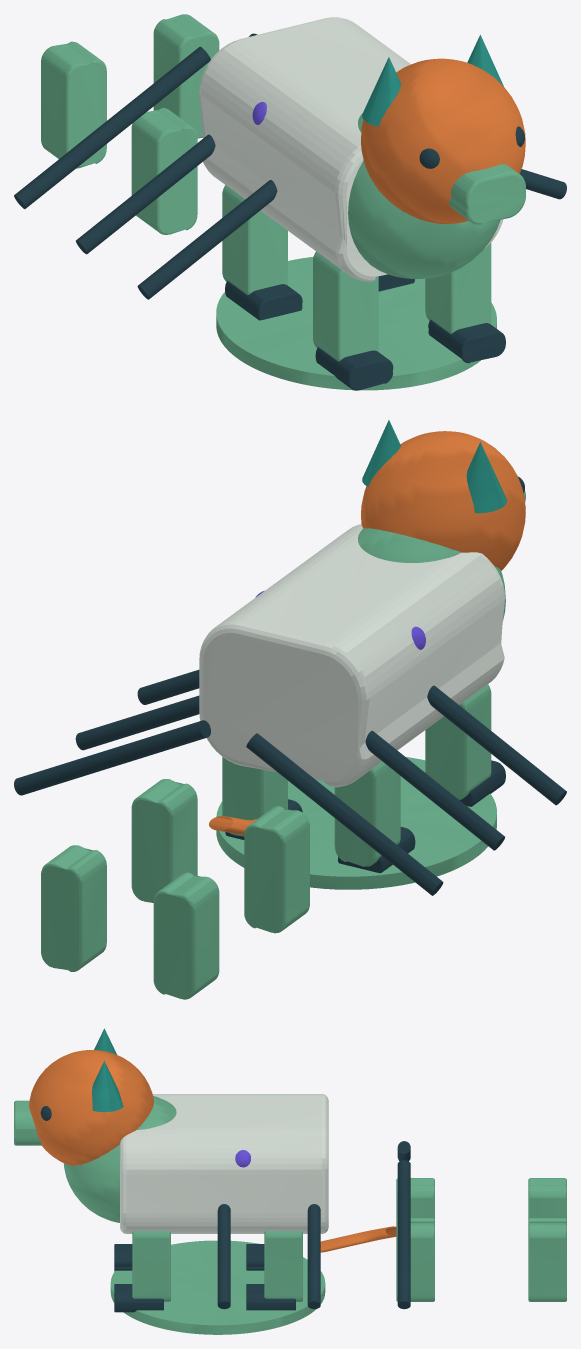
Rendered from 0880_森林动物图鉴_棕头蜘蛛猴.glb.
The picture shows the model from 3 angles, top to bottom: view 1: azimuth 30°, elevation 25°; view 2: azimuth 150°, elevation 25°; view 3: azimuth 270°, elevation 25°; orthographic projection. The views are drawn at different scales.
Parts seen in each view (by area): view 1: card_0880; view 2: card_0880; view 3: card_0880.
Boxes of the visible parts, box(x1,y1,x2,y2) form: card_0880: box(14, 14, 566, 390); card_0880: box(14, 420, 566, 999); card_0880: box(14, 1028, 566, 1334).
Size of the model in its own units: 1.31 by 1 by 2.02.
